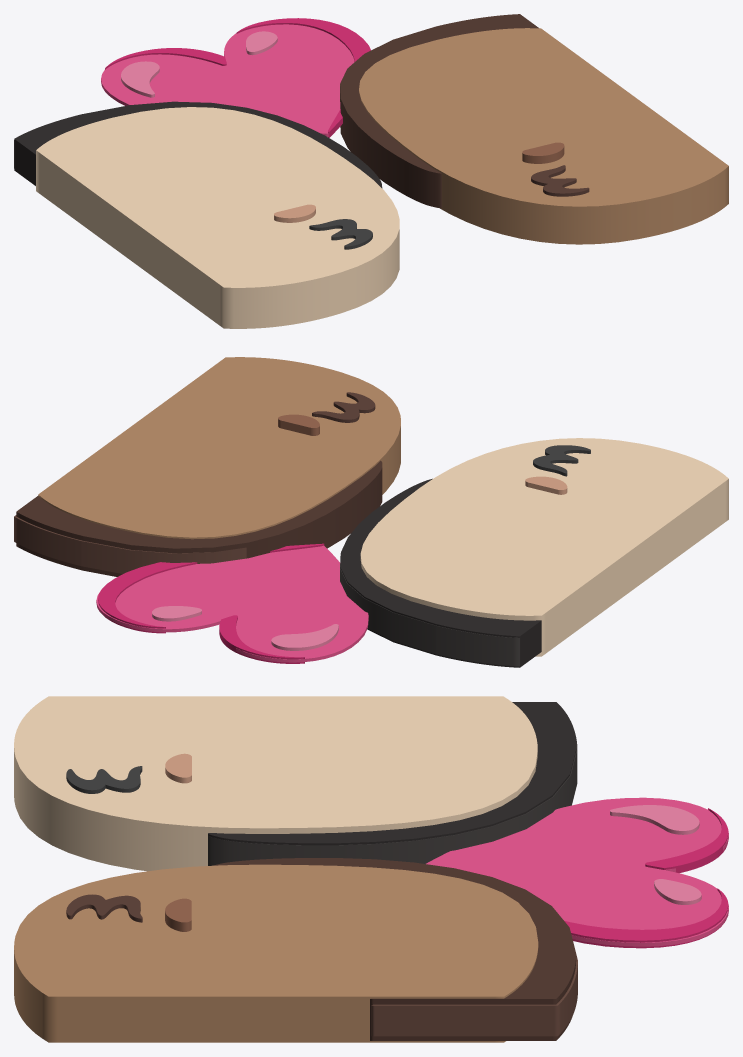
File: emoji_u1f468_1f3fb_200d_2764_200d_1f48b_200d_1f468_1f3fd.glb
3 renders of one model, top to bottom at view 1: azimuth 30°, elevation 25°; view 2: azimuth 150°, elevation 25°; view 3: azimuth 270°, elevation 25°, orthographic. The views are drawn at different scales.
Parts seen in each view (by area): view 1: emoji_u1f468_1f3fb_200d_2764_200d_1f48b_200d_1f468_1f3fd; view 2: emoji_u1f468_1f3fb_200d_2764_200d_1f48b_200d_1f468_1f3fd; view 3: emoji_u1f468_1f3fb_200d_2764_200d_1f48b_200d_1f468_1f3fd.
Part boxes in pixels (bbox=[...]): emoji_u1f468_1f3fb_200d_2764_200d_1f48b_200d_1f468_1f3fd: bbox=[14, 14, 728, 328]; emoji_u1f468_1f3fb_200d_2764_200d_1f48b_200d_1f468_1f3fd: bbox=[14, 357, 728, 667]; emoji_u1f468_1f3fb_200d_2764_200d_1f48b_200d_1f468_1f3fd: bbox=[14, 696, 728, 1042].
Size of the model in its own units: 0.0336 by 0.0034 by 0.0339.
